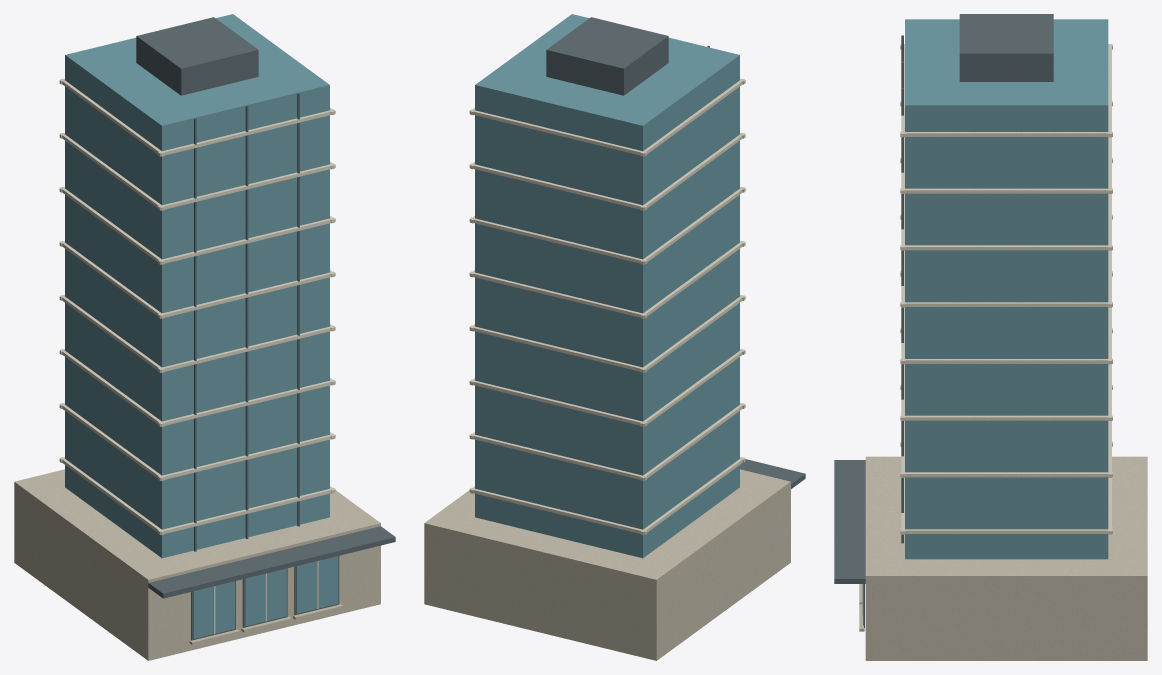
Rendered from podium-tower.glb.
3 views of the same model, side by side, from view 1: azimuth 30°, elevation 25°; view 2: azimuth 150°, elevation 25°; view 3: azimuth 270°, elevation 25° (orthographic). The views are drawn at different scales.
Size of the model in its own units: 9 by 20 by 10.
4 materials, 3 textured.
